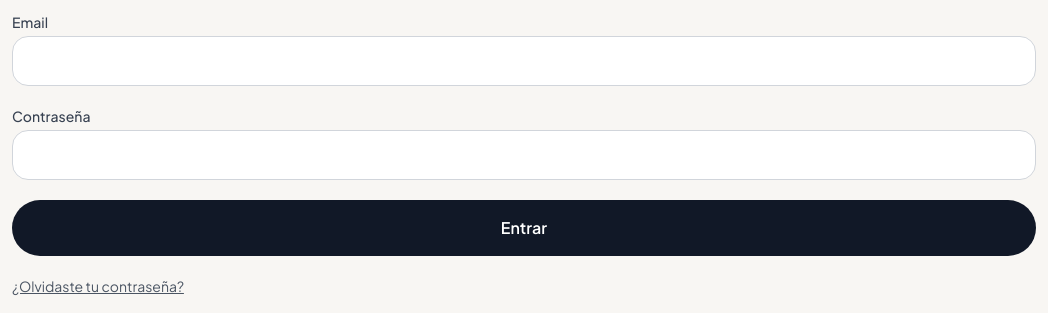
pending states › LoginForm swaps the button label while the action is in flight
Step 1. Click the button "Entrar" → (524, 228), box [12,200,1036,256]
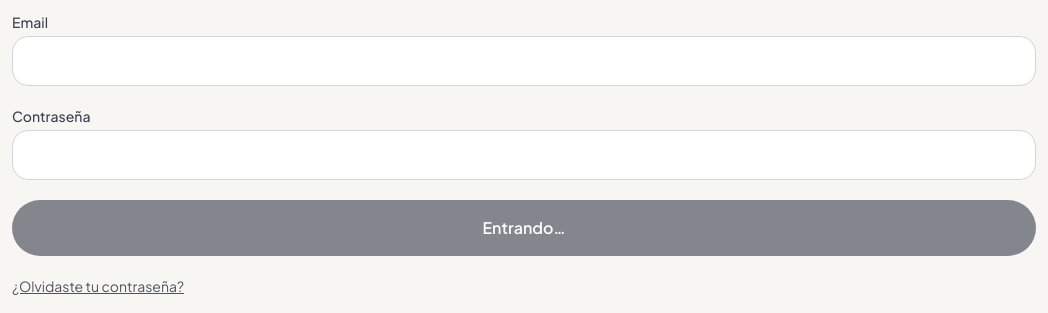
Now the button "Entrando…" is disabled, box [12,200,1036,256]
